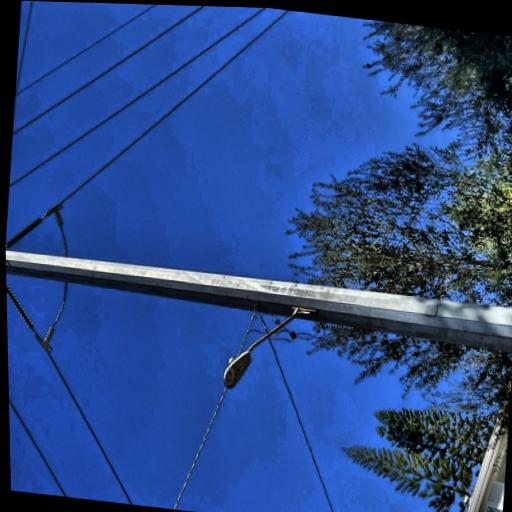pole: (30, 1, 155, 503)
street light: (8, 346, 92, 458)
